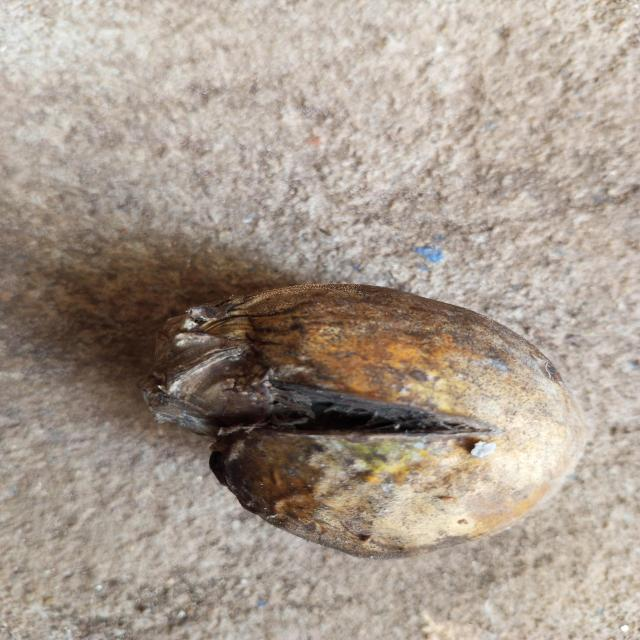damaged: (143, 284, 587, 559)
